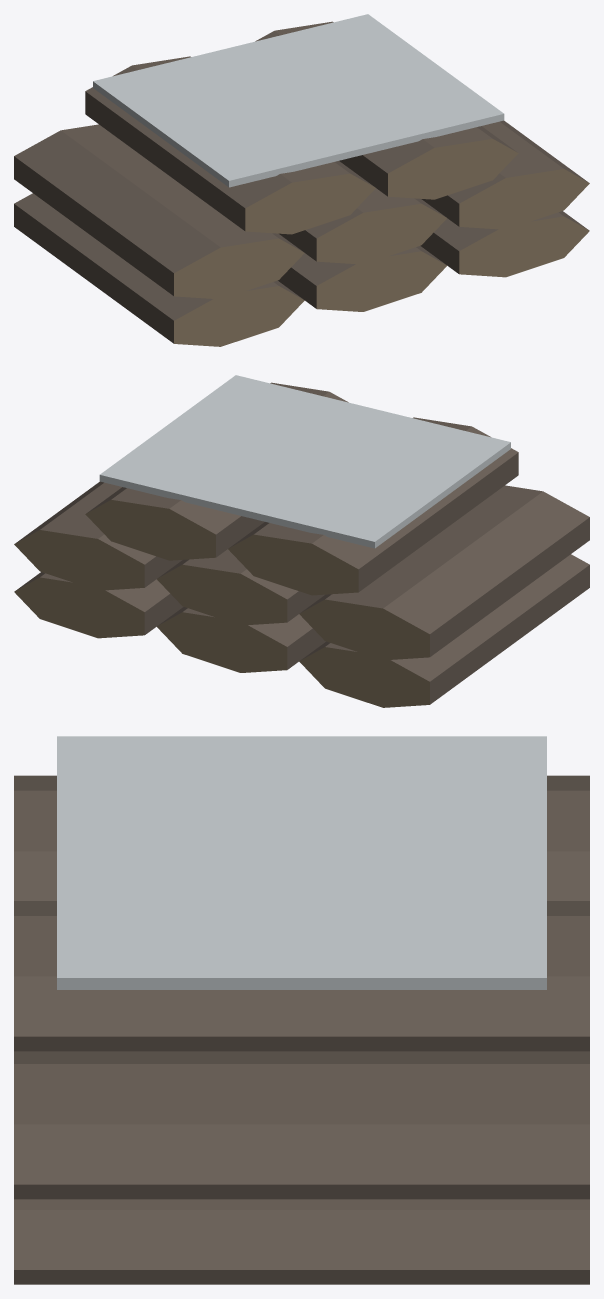
The model's file is firewood_stack.glb.
The picture shows the model from 3 angles, top to bottom: view 1: azimuth 30°, elevation 25°; view 2: azimuth 150°, elevation 25°; view 3: azimuth 270°, elevation 25°; orthographic projection. The views are drawn at different scales.
Visible parts, largest first — view 1: firewood_stack; view 2: firewood_stack; view 3: firewood_stack.
Boxes of the visible parts, left/top/right/bottom form: firewood_stack: left=14, top=14, right=589, bottom=346; firewood_stack: left=14, top=375, right=589, bottom=707; firewood_stack: left=14, top=736, right=589, bottom=1284.
Bounding box in the file's own units: 3 × 1.05 × 2.
